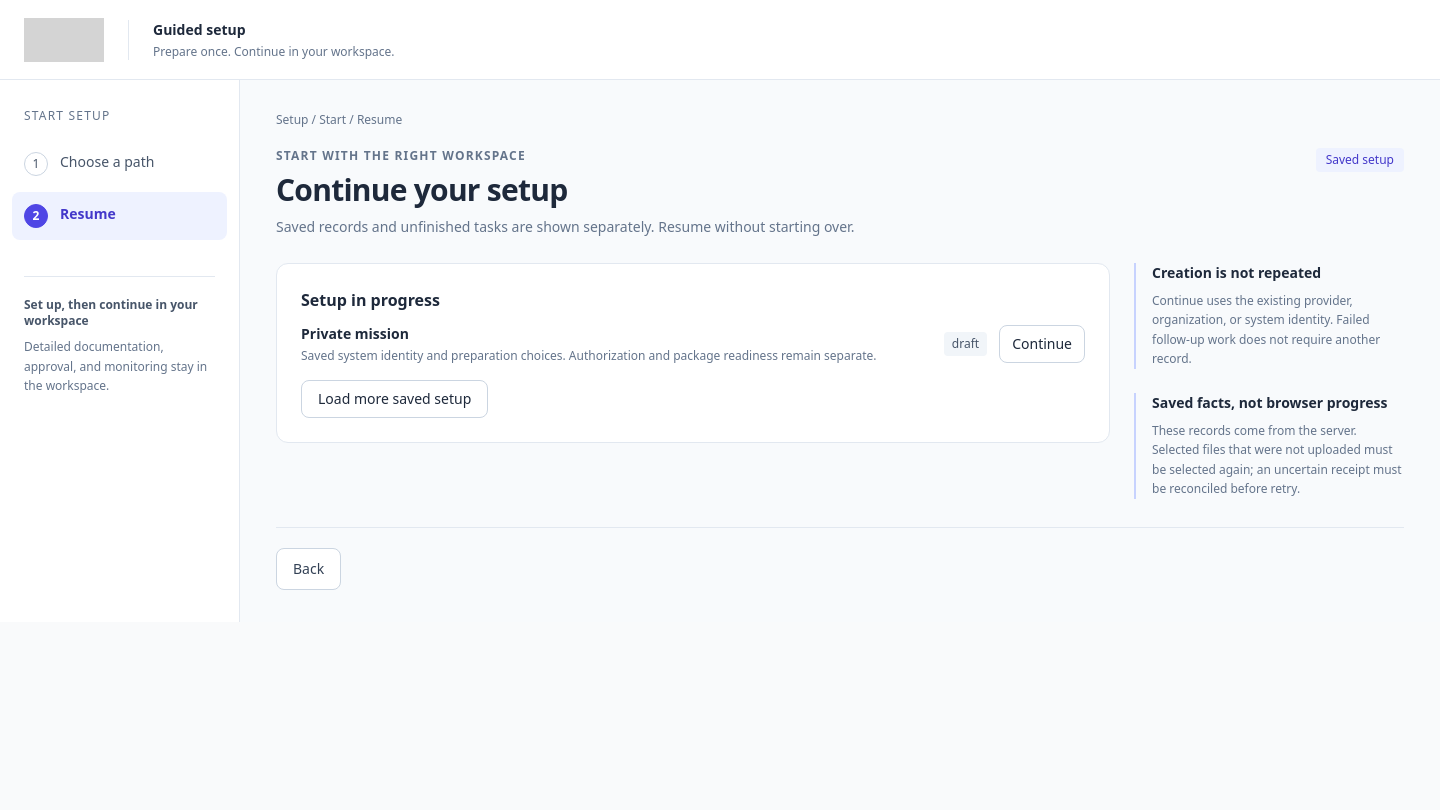
Test case: setup entry canonical readers › clears retained private records when authorization is lost: Sign in again.
Expected: the link with aria-label "Continue Private mission" is shown, [999,325,1085,363]
Click the button "Load more saved setup" at x=395, y=399, box [301,380,488,418]
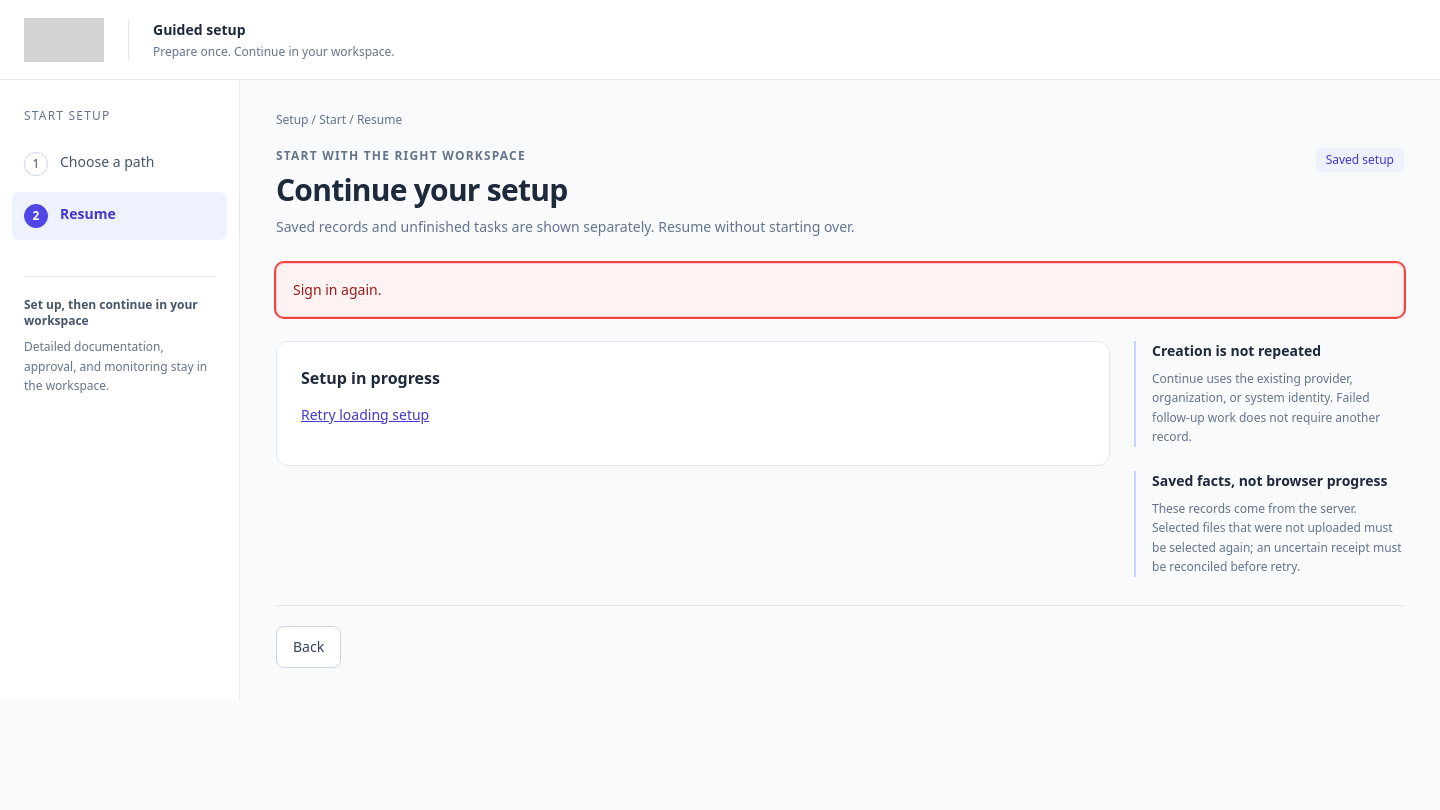
Now the message reads "Sign in again.", box [293,280,382,299]
Now the heading "Private mission" is gone
Now the button "Load more saved setup" is gone
